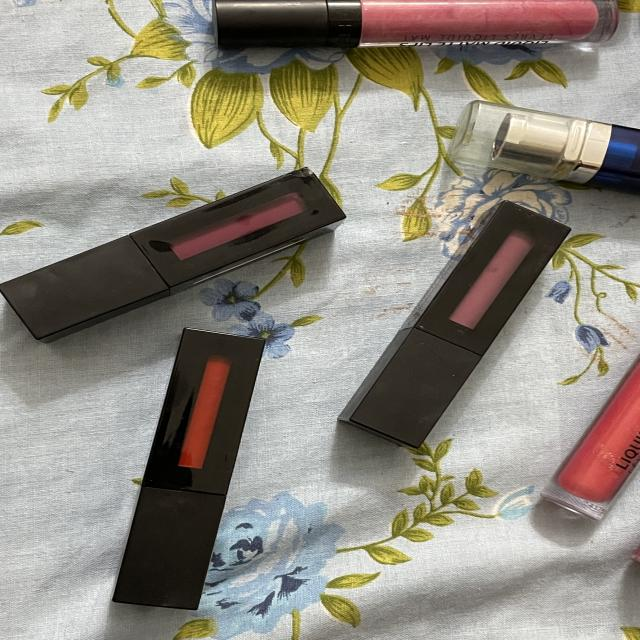lip gloss: (319, 196, 598, 453), (0, 160, 373, 348), (96, 323, 288, 622), (193, 0, 632, 57), (534, 324, 636, 555)
lip stick: (453, 83, 640, 194)
